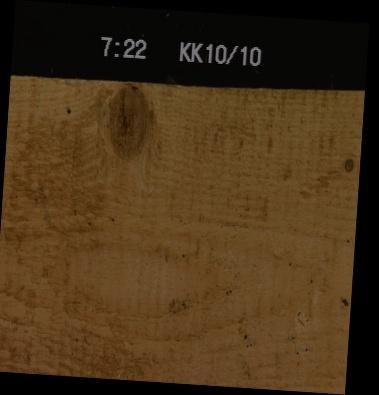dry_knot: (342, 155, 354, 171)
sound_knot: (103, 81, 150, 160)
